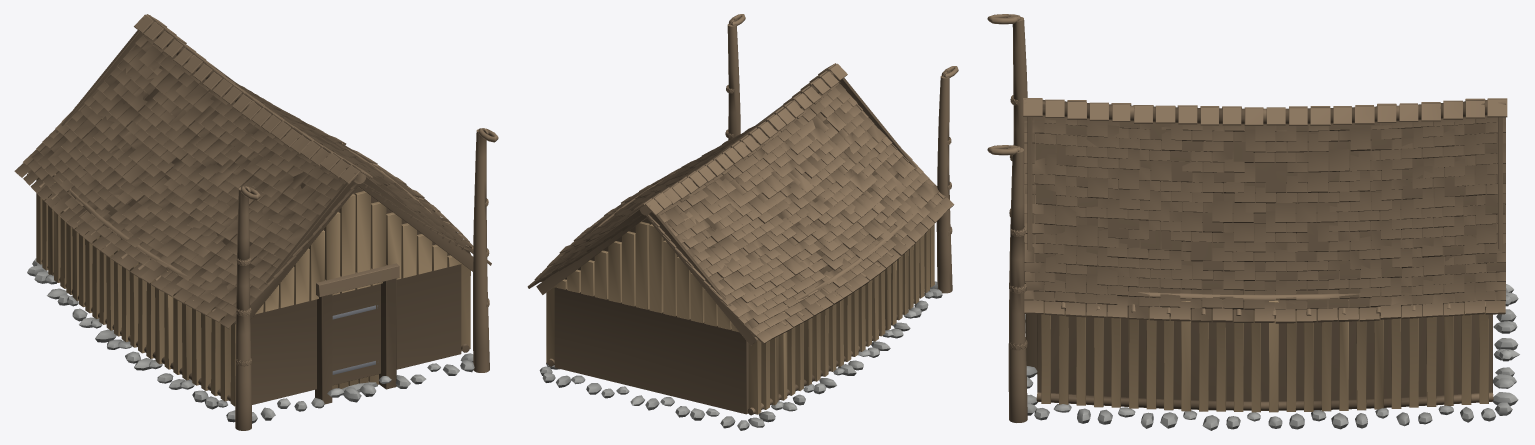
Rendered from berk_house_a.glb.
The picture shows the model from 3 angles, left to right: view 1: azimuth 30°, elevation 25°; view 2: azimuth 150°, elevation 25°; view 3: azimuth 270°, elevation 25°; orthographic projection. The views are drawn at different scales.
Visible parts, largest first — view 1: berk_house_a; view 2: berk_house_a; view 3: berk_house_a.
Boxes of the visible parts, <box> form: berk_house_a: <box>14,14,498,430</box>; berk_house_a: <box>527,14,958,430</box>; berk_house_a: <box>987,14,1519,430</box>.
Size of the model in its own units: 6.13 by 4.78 by 8.43.
